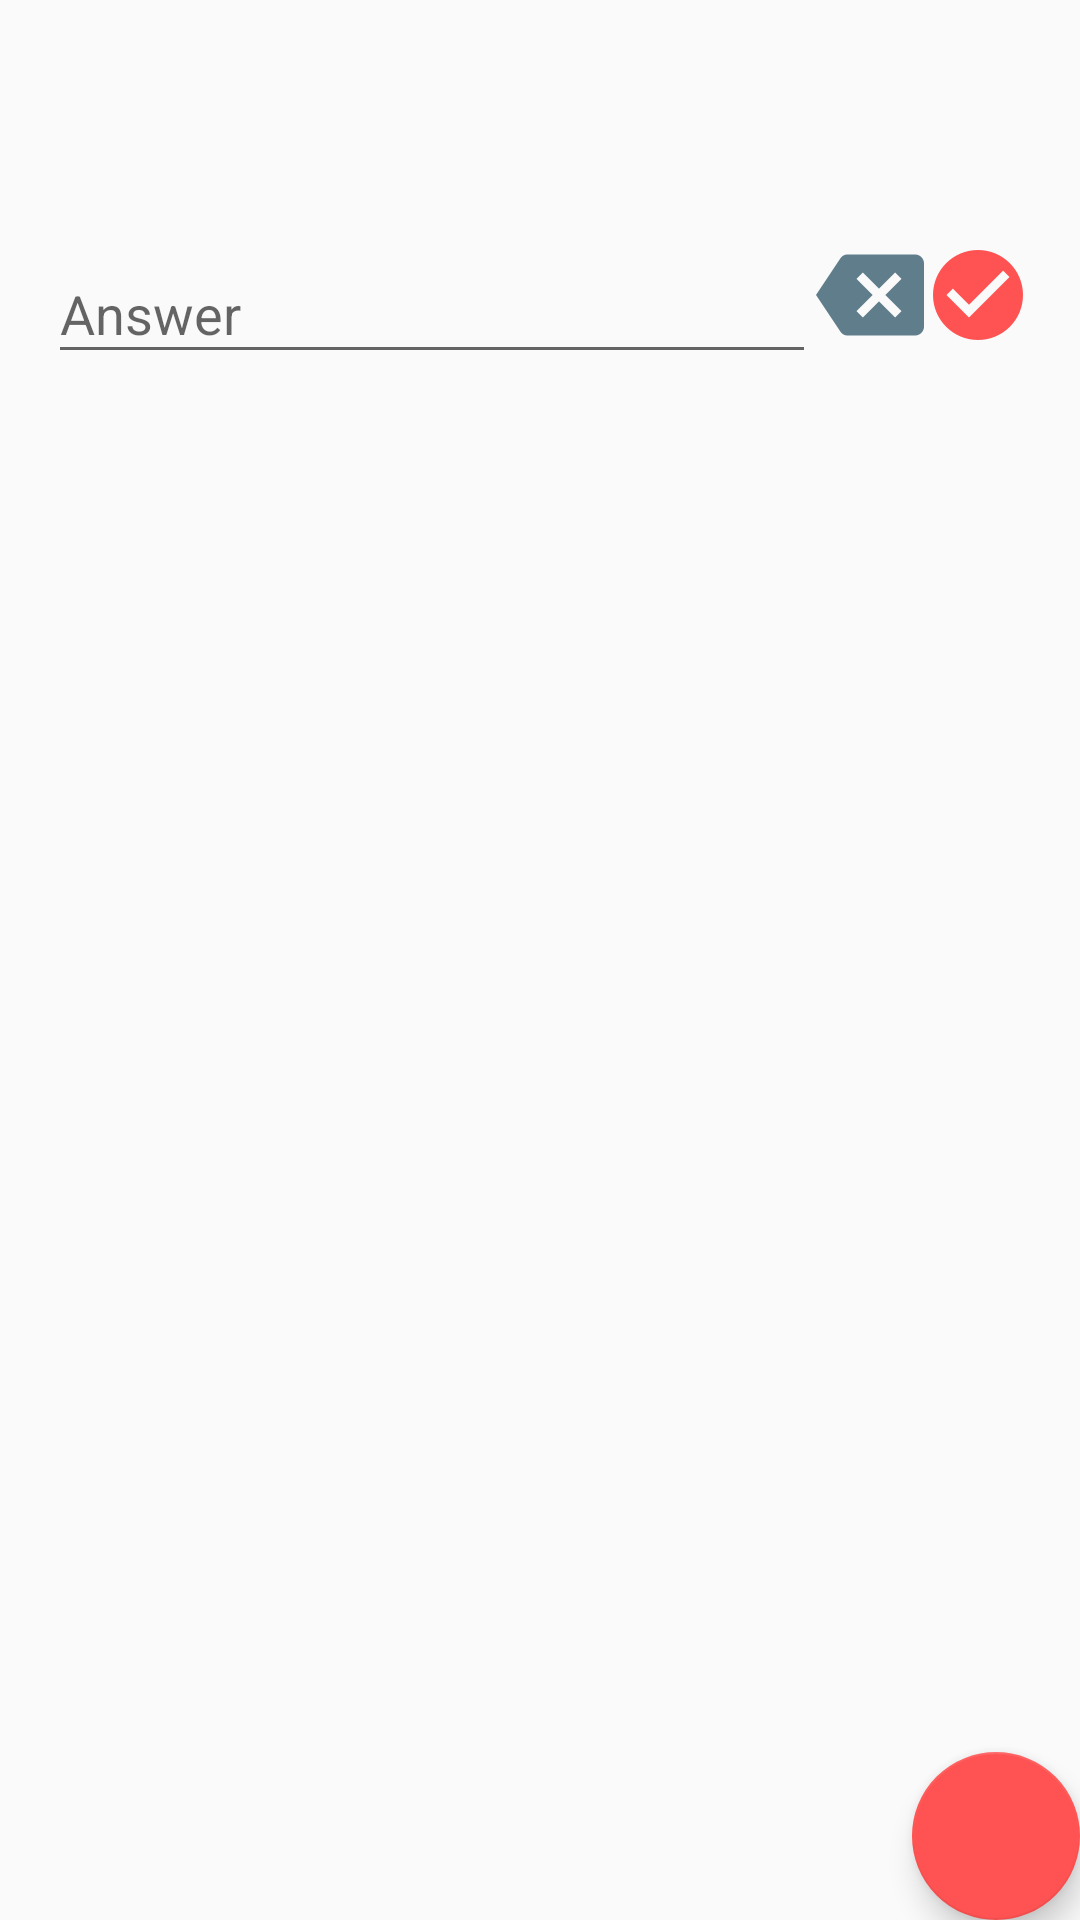

Where icons sit on this 1080 × 1920 app screen, as (x1, y1, x2, y2):
backspace: (816, 254, 924, 336)
check circle: (933, 250, 1023, 340)
